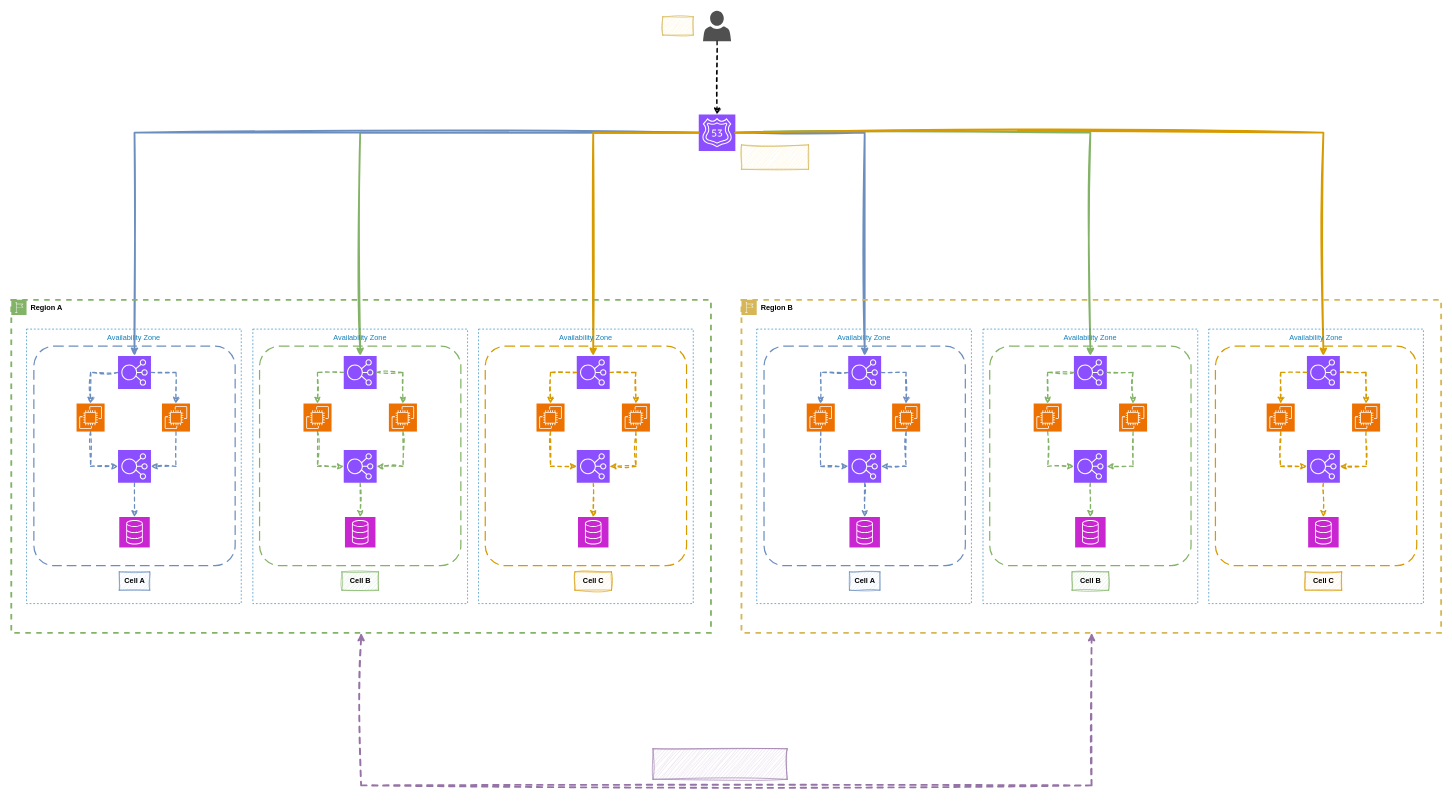
This 1452x802 diagram has some shape labels left out. The centre of each missing label's shape, as x and y in pixels:
"Asynchronous Replication DR/Data Sync" belongs at [719,763].
"Routing Policy Health/Latency" belongs at [775,156].
"Users" belongs at [677,25].
